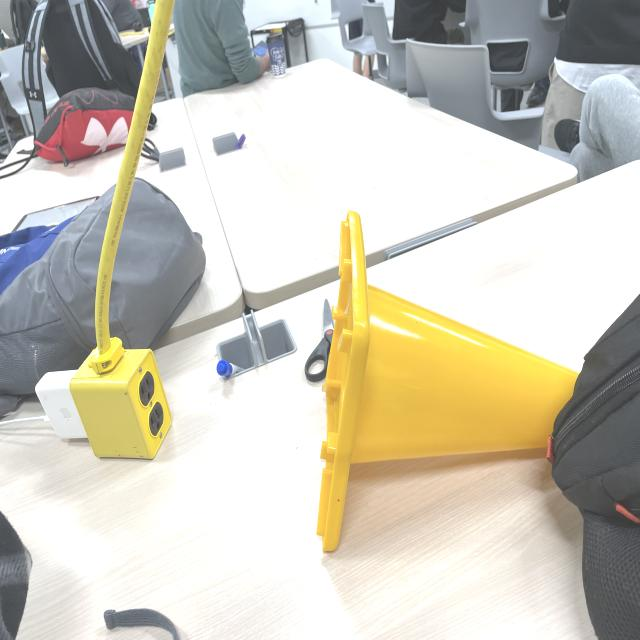frc_cone: (270, 207, 595, 556)
